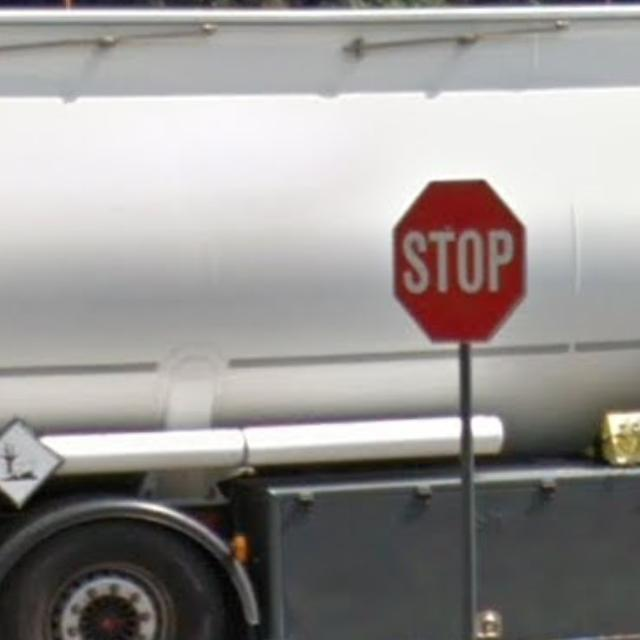prio_stop: (390, 178, 527, 344)
